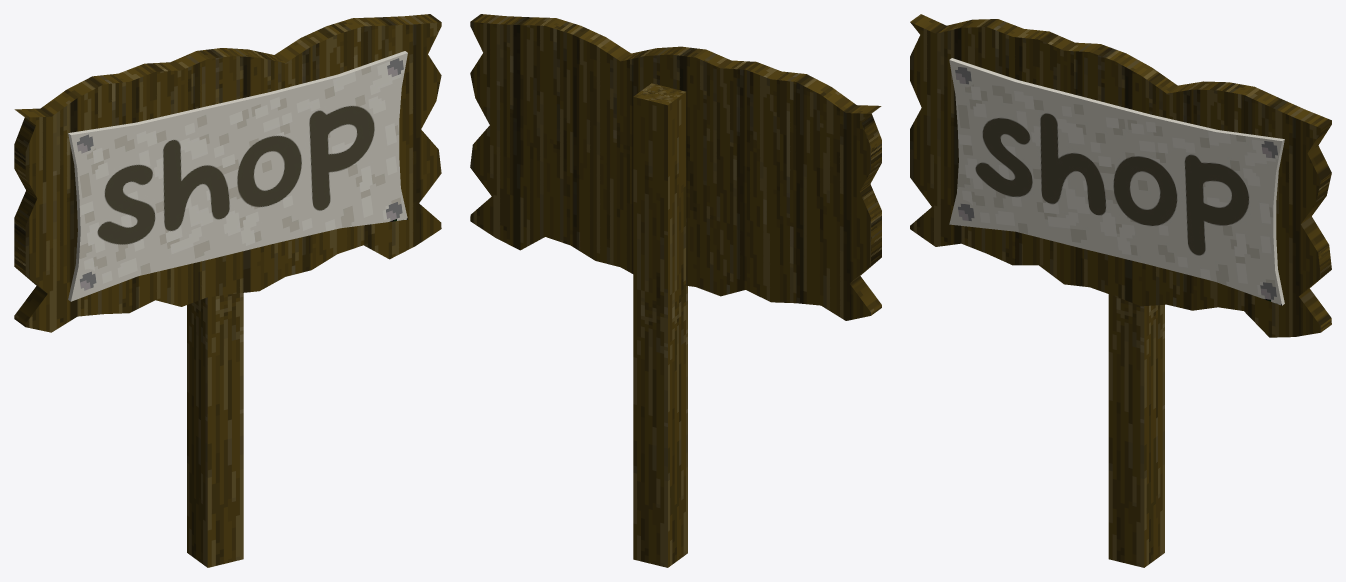
Rendered from Shop Sign.fbx.
3 views of the same model, side by side, from view 1: azimuth 30°, elevation 25°; view 2: azimuth 150°, elevation 25°; view 3: azimuth 330°, elevation 25° (orthographic). The views are drawn at different scales.
Visible parts, largest first — view 1: paper, board, pole; view 2: board, pole; view 3: paper, board, pole.
Part boxes in pixels (bbox=[...]): paper: bbox=[68, 51, 407, 301]; board: bbox=[14, 14, 441, 332]; pole: bbox=[187, 293, 243, 567]; board: bbox=[470, 14, 881, 320]; pole: bbox=[633, 83, 687, 567]; paper: bbox=[949, 58, 1284, 305]; board: bbox=[910, 14, 1331, 337]; pole: bbox=[1108, 294, 1164, 567].
Bounding box in the file's own units: 34.64 × 41.22 × 4.77.
3 materials, 3 textured.
